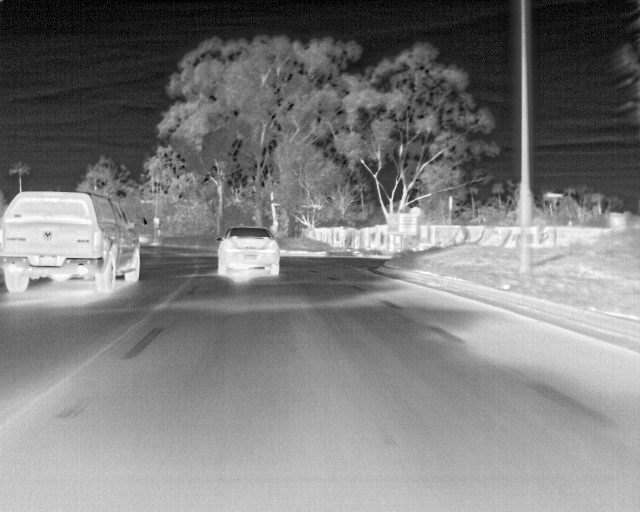vehicle: (1, 192, 141, 295), (219, 225, 281, 282)
